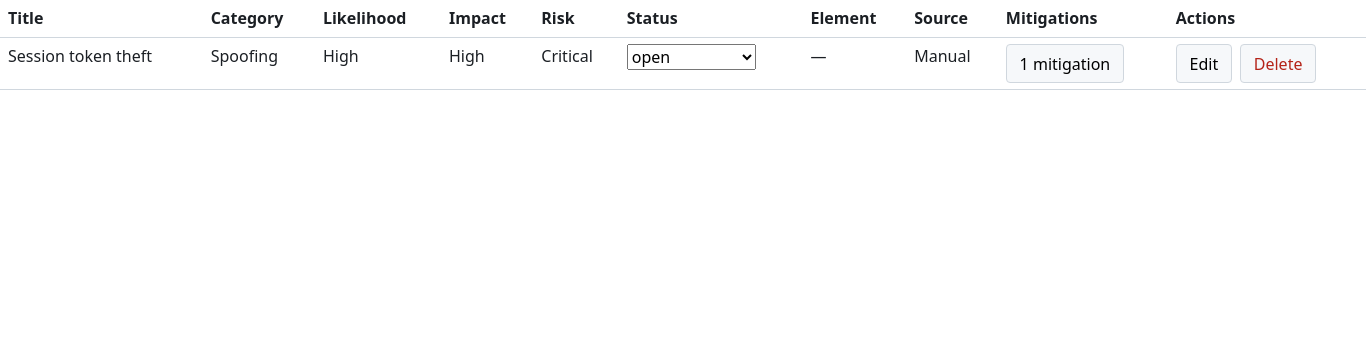
Scenario: ThreatTable › renders mitigations only for an expanded row, and the toggle says whether it is open
Expected: the text "Rotate refresh credentials" is not shown
Click the button "1 mitigation" at (1065, 64), box [1006,44,1124,83]
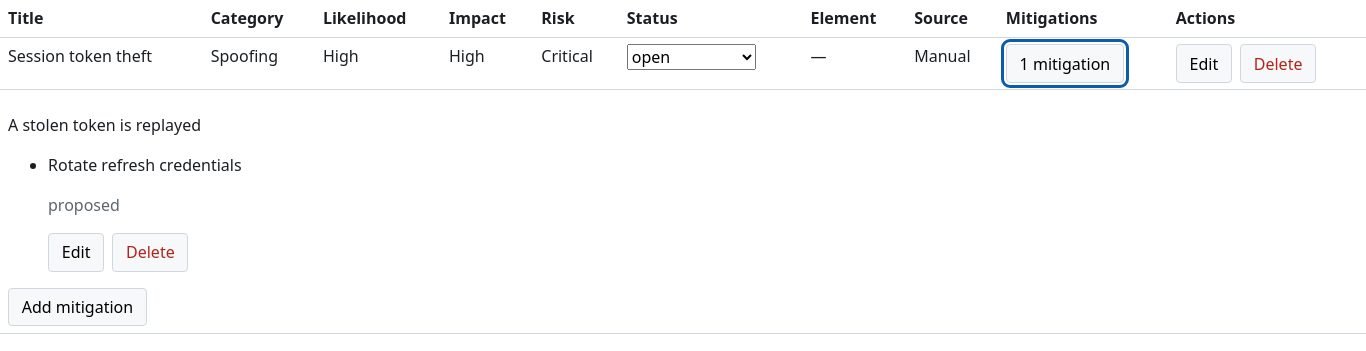
Now the text "Rotate refresh credentials" is shown, box [48,154,242,176]
Click the button "1 mitigation" at (1065, 64), box [1006,44,1124,83]
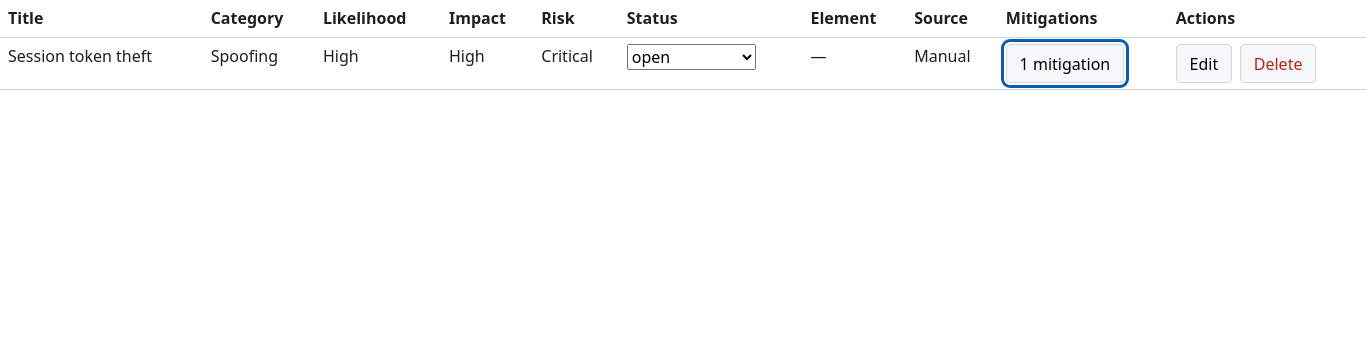
Now the text "Rotate refresh credentials" is gone
